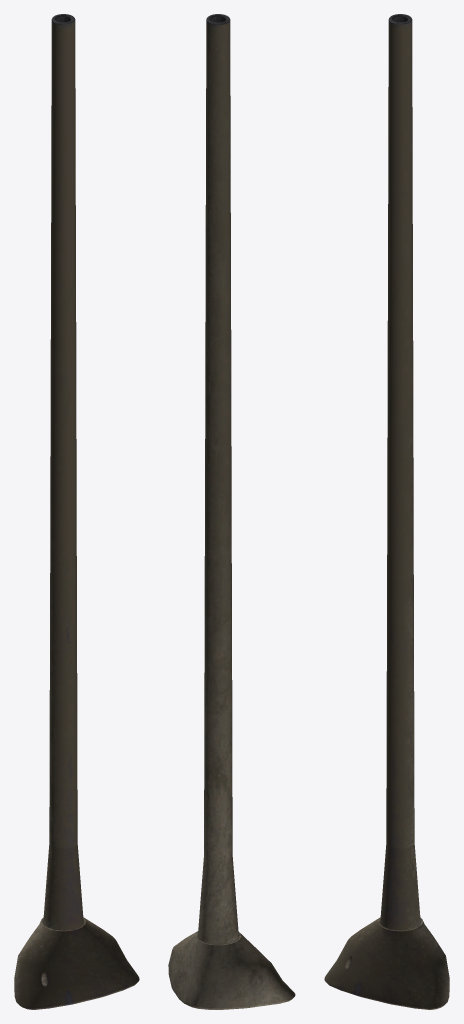
The model's file is Gun_05.glb.
The picture shows the model from 3 angles, left to right: view 1: azimuth 30°, elevation 25°; view 2: azimuth 150°, elevation 25°; view 3: azimuth 330°, elevation 25°; orthographic projection.
Parts seen in each view (by area): view 1: set_0_group_0; view 2: set_0_group_0; view 3: set_0_group_0.
Boxes of the visible parts, bbox=[...] form: set_0_group_0: bbox=[14, 14, 139, 1009]; set_0_group_0: bbox=[168, 14, 295, 1009]; set_0_group_0: bbox=[324, 14, 449, 1009].
Bounding box in the file's own units: 0.8945 × 6.92 × 0.635.
Materials: 1 (1 with a texture image).
